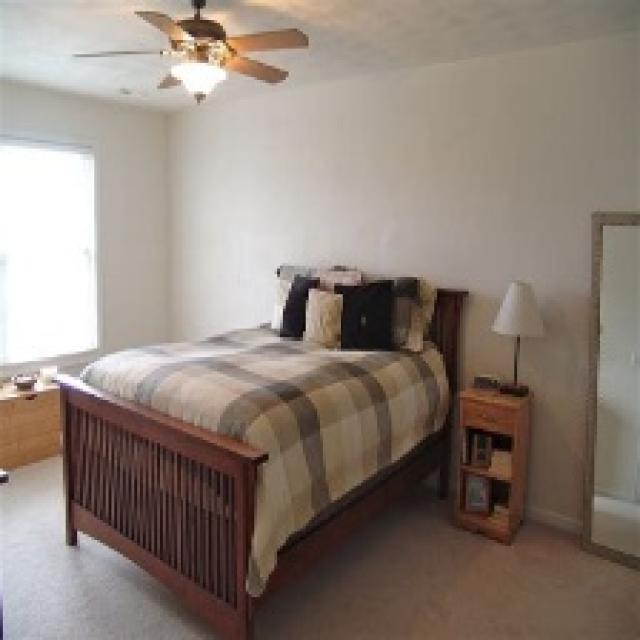Bed: (51, 274, 468, 637)
